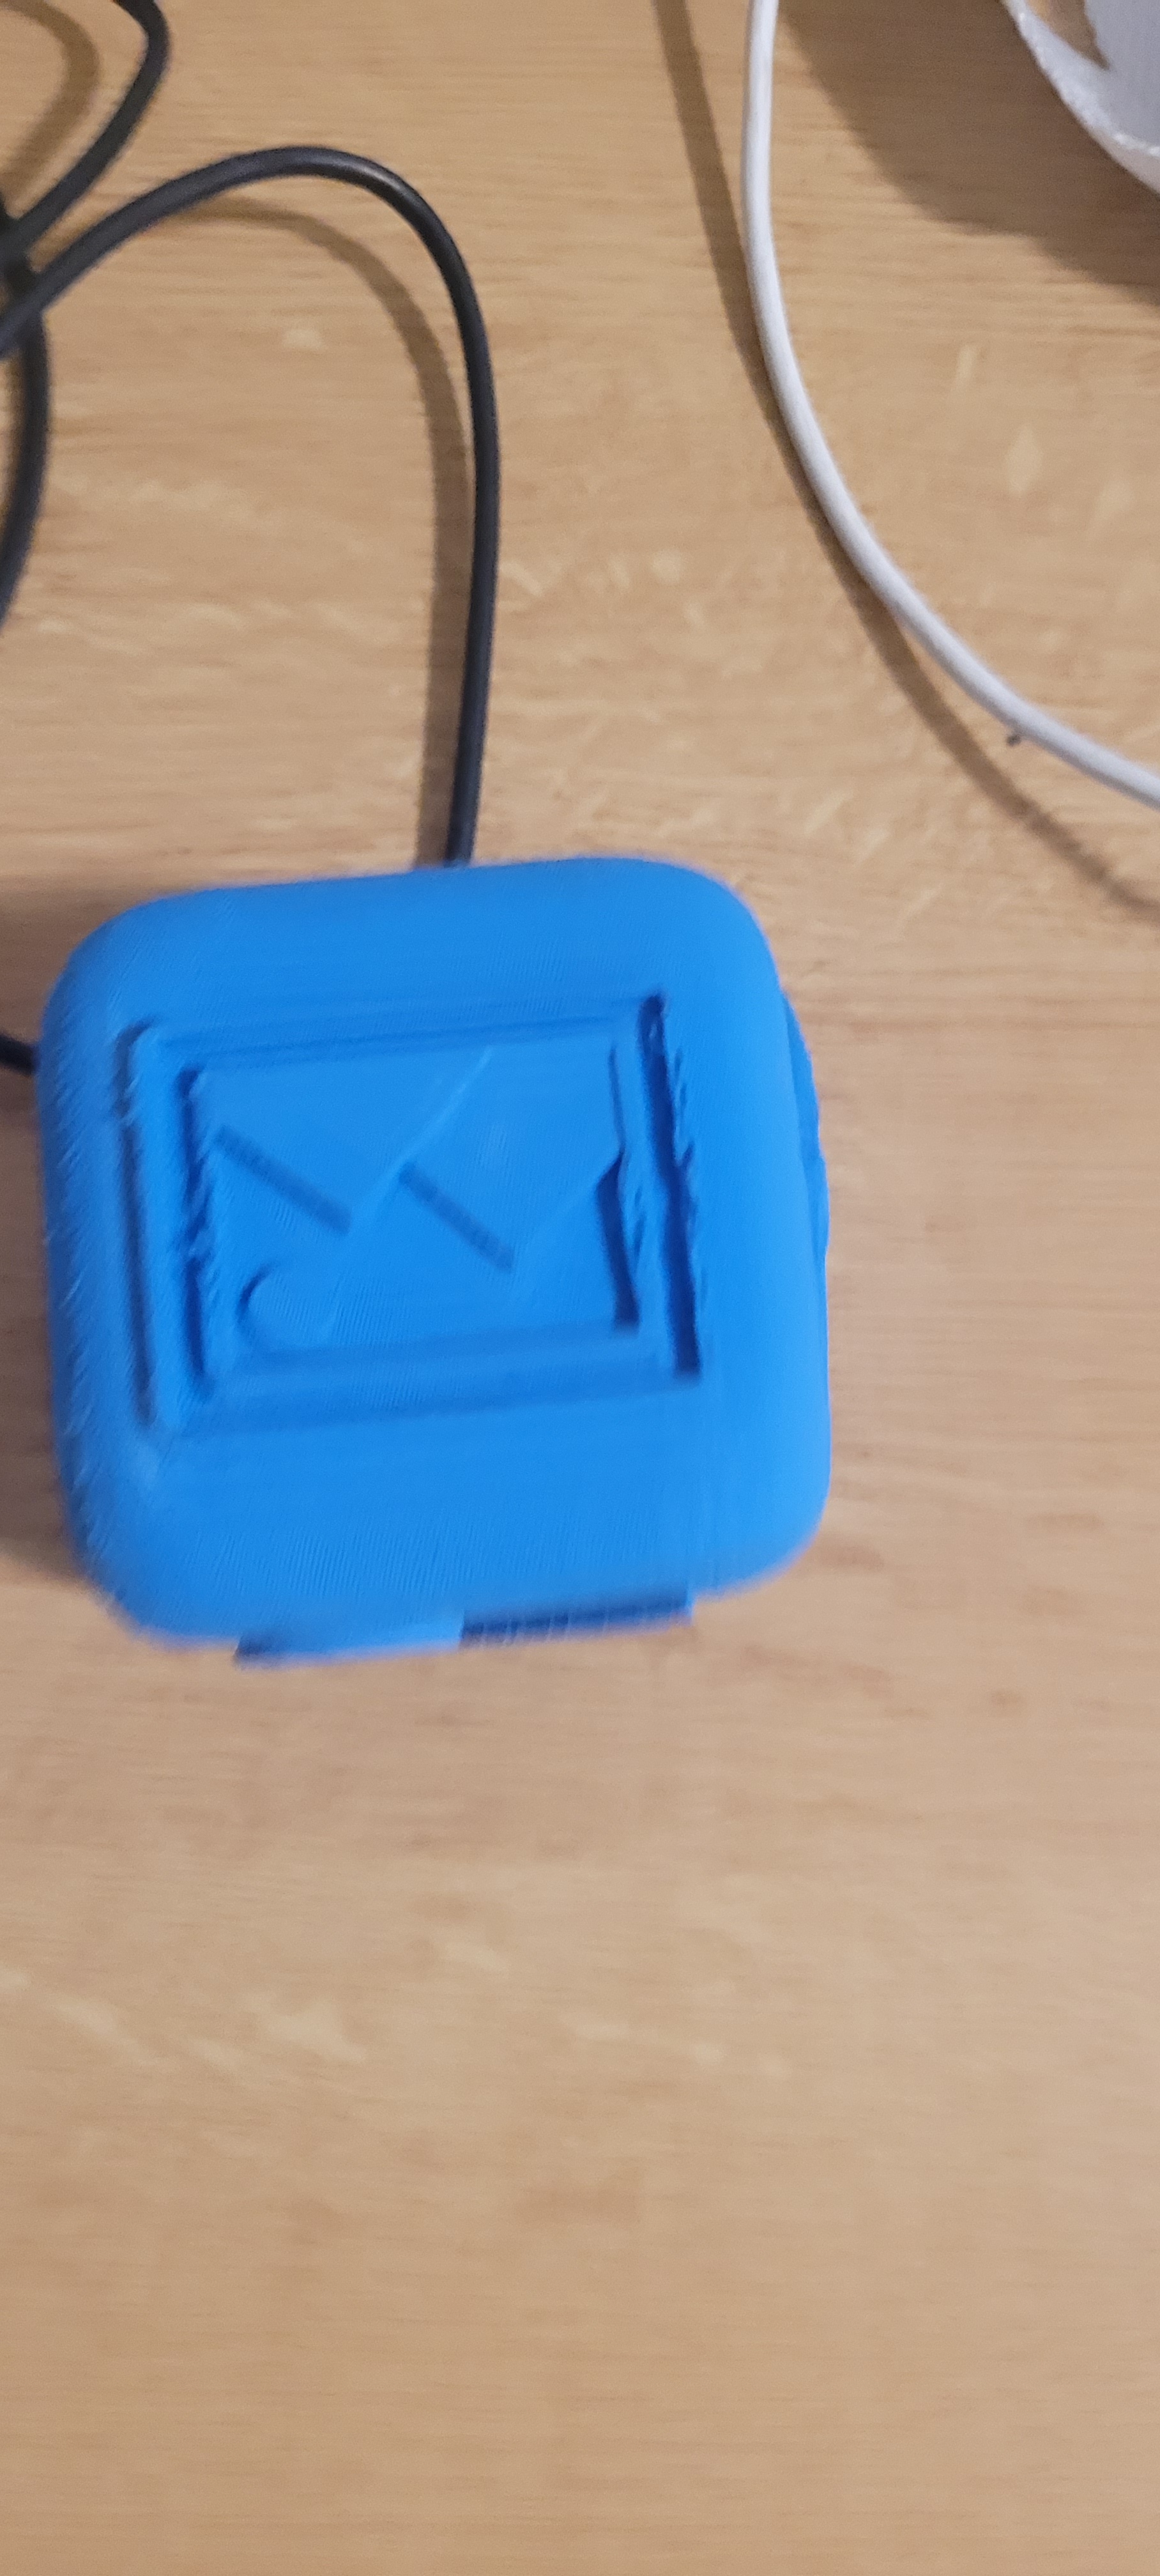Story: (85, 987, 815, 1480)
